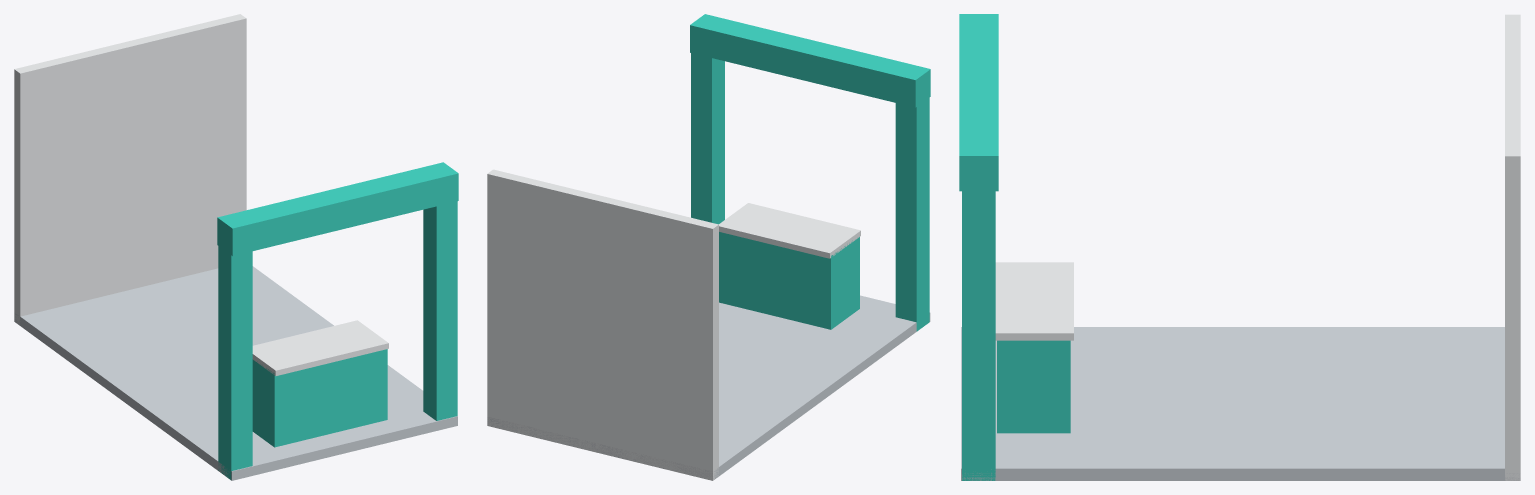
3 renders of one model, left to right at view 1: azimuth 30°, elevation 25°; view 2: azimuth 150°, elevation 25°; view 3: azimuth 270°, elevation 25°, orthographic. The views are drawn at different scales.
Parts seen in each view (by area): view 1: Exhibition Booth Concept; view 2: Exhibition Booth Concept; view 3: Exhibition Booth Concept.
Part boxes in pixels (x1=…): Exhibition Booth Concept: x1=14, y1=14, x2=458, y2=480; Exhibition Booth Concept: x1=487, y1=14, x2=930, y2=480; Exhibition Booth Concept: x1=959, y1=14, x2=1520, y2=480.
Bounding box in the file's own units: 3 × 3.2 × 5.02.
